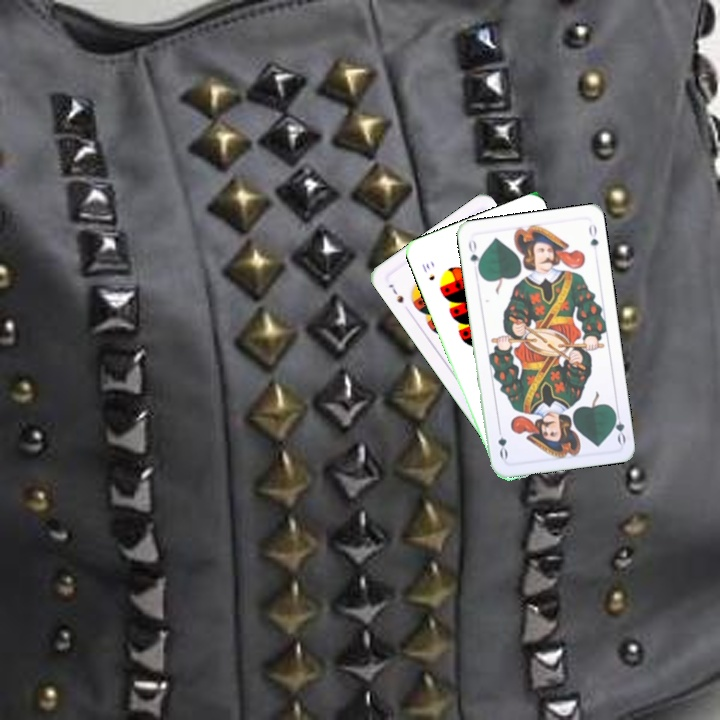GO: (608, 405, 628, 446), (464, 235, 483, 275)
S10: (418, 259, 437, 283)
S7: (384, 280, 406, 306)
